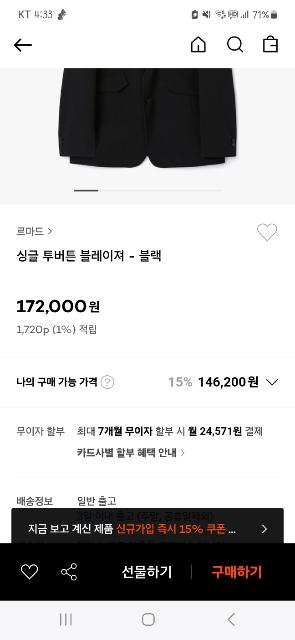Icon: (258, 224, 278, 242), (14, 37, 32, 54), (61, 562, 78, 580), (261, 36, 279, 52), (227, 35, 242, 53), (190, 36, 206, 52), (22, 564, 38, 580), (101, 374, 115, 390), (266, 377, 278, 385), (262, 524, 268, 534), (47, 227, 53, 235), (181, 449, 185, 456)
Image: (0, 68, 295, 205)
PageIndicator: (72, 187, 222, 193)
Text: (79, 427, 263, 457), (18, 300, 100, 334), (28, 523, 236, 535), (17, 250, 161, 262), (169, 376, 259, 388), (17, 378, 98, 388), (122, 564, 172, 580), (214, 566, 262, 578), (16, 495, 52, 507), (78, 496, 116, 506), (18, 427, 64, 435), (18, 227, 42, 236)
Toolbar: (0, 27, 295, 67)
UpperTaskBar: (0, 0, 295, 25)
